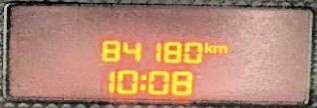0: (115, 68, 136, 95), (147, 69, 167, 95), (183, 41, 201, 64)
1: (105, 68, 115, 93), (153, 40, 161, 62)
4: (121, 41, 140, 60)
8: (170, 68, 192, 96), (99, 38, 119, 62), (162, 40, 180, 63)
X: (137, 72, 146, 91), (212, 44, 227, 53), (203, 40, 212, 53)
